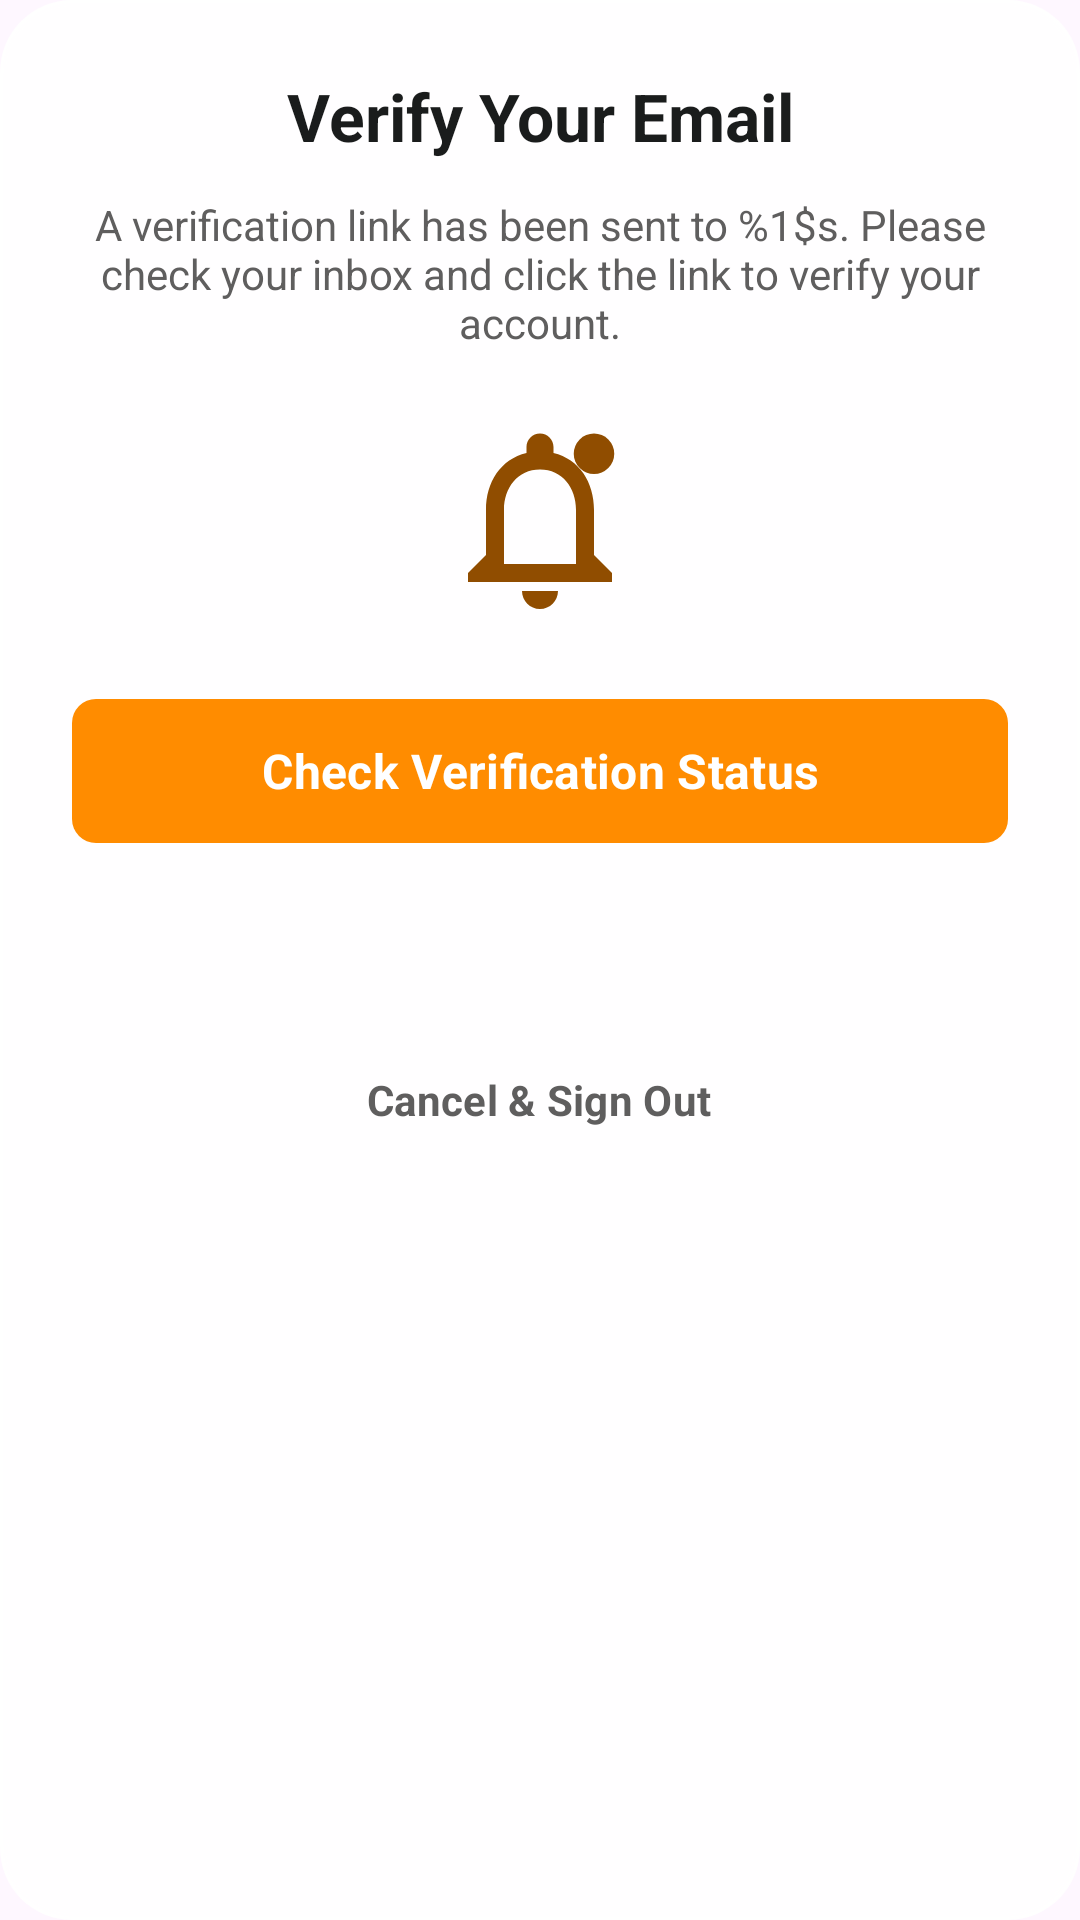

Icon click points for this 1080×1920 phone screenshot, format (x=x, y=y):
notification bell: (x=541, y=521)
